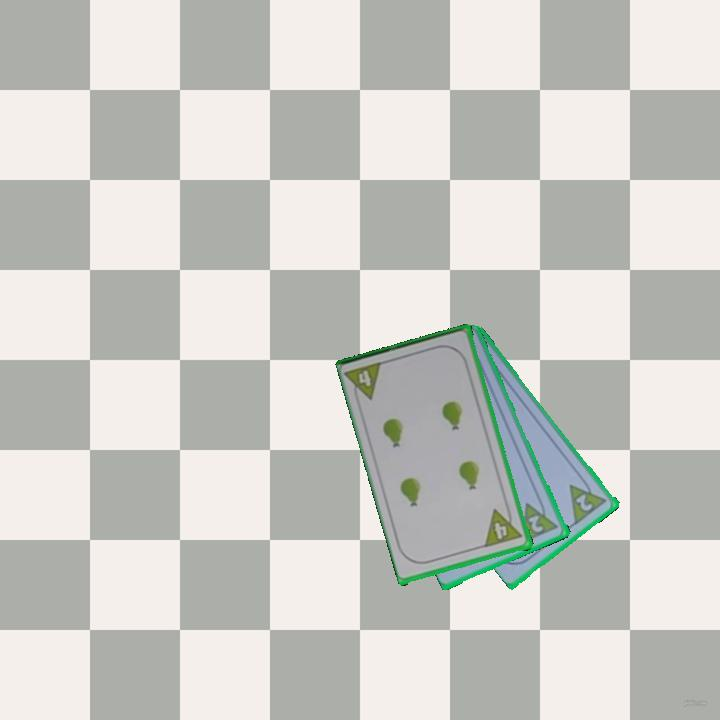2p: (518, 495, 562, 545), (572, 490, 596, 514)
4p: (481, 503, 526, 550), (343, 358, 387, 406)
